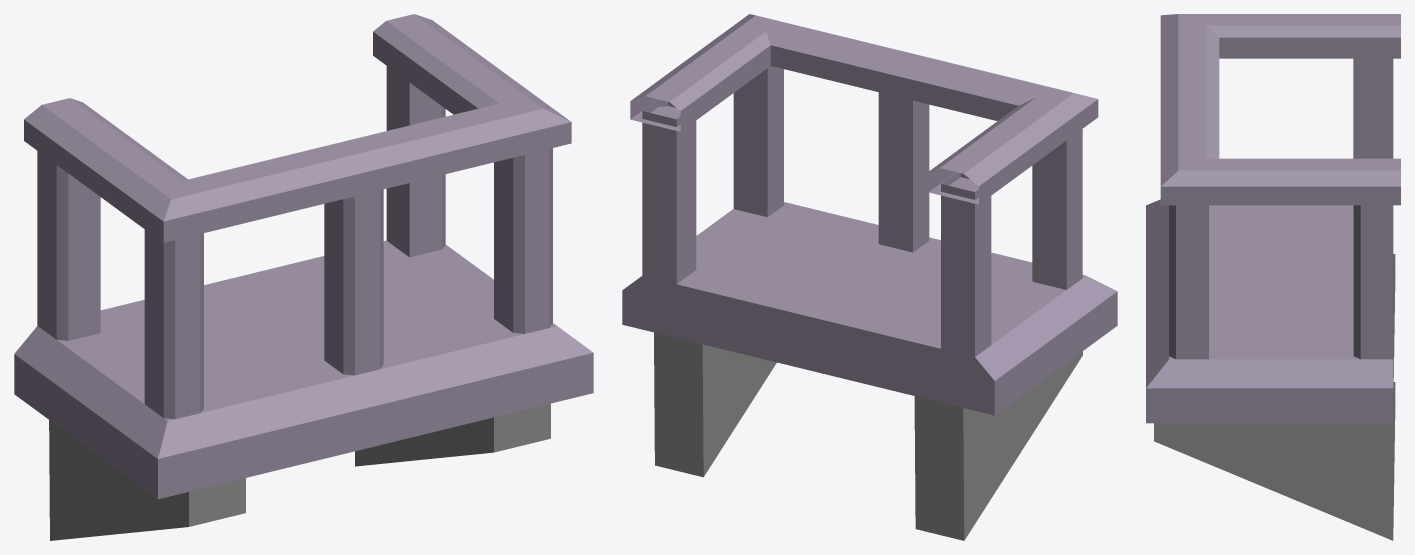
The model's file is Balkon.FBX.
The picture shows the model from 3 angles, left to right: view 1: azimuth 30°, elevation 25°; view 2: azimuth 150°, elevation 25°; view 3: azimuth 270°, elevation 25°; orthographic projection. The views are drawn at different scales.
Parts seen in each view (by area): view 1: Balkon; view 2: Balkon; view 3: Balkon.
Boxes of the visible parts, bbox=[...] form: Balkon: bbox=[14, 14, 593, 540]; Balkon: bbox=[622, 14, 1117, 540]; Balkon: bbox=[1146, 14, 1400, 540].
Bounding box in the file's own units: 39.01 × 37.1 × 22.96.
